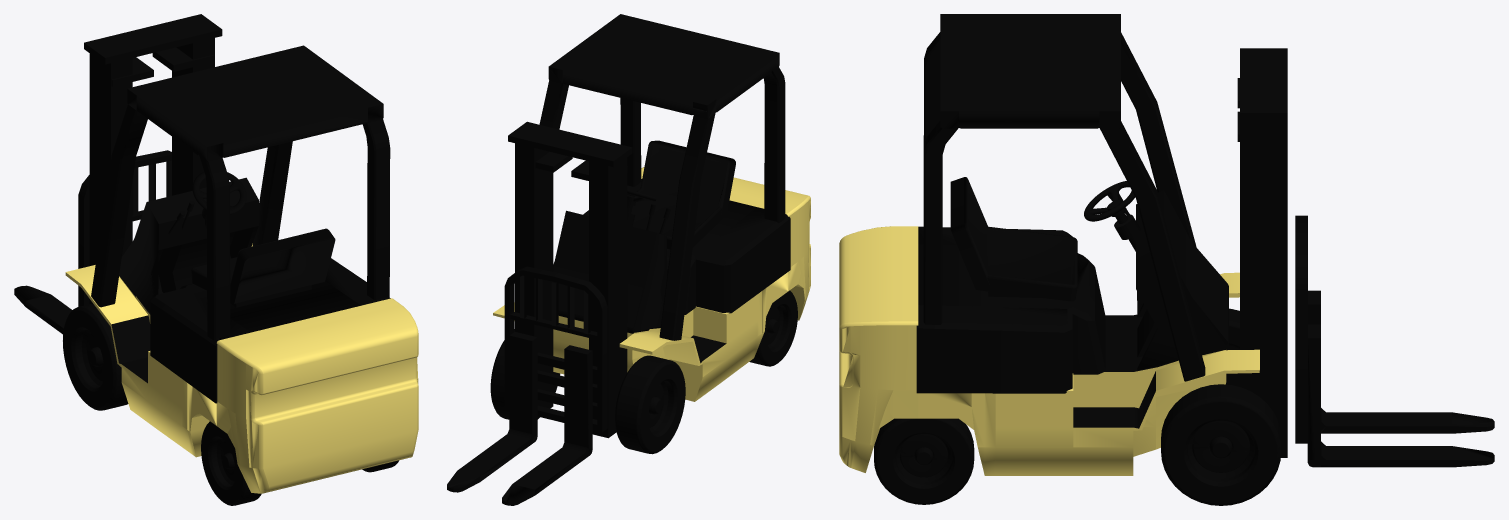
File: forklift.glb
3 renders of one model, left to right at view 1: azimuth 30°, elevation 25°; view 2: azimuth 150°, elevation 25°; view 3: azimuth 270°, elevation 25°, orthographic. The views are drawn at different scales.
Visible parts, largest first — view 1: Asset3DLoader.sceneRoot; view 2: Asset3DLoader.sceneRoot; view 3: Asset3DLoader.sceneRoot.
Boxes of the visible parts, box(x1,y1,x2,y2) form: Asset3DLoader.sceneRoot: box(14, 14, 418, 505); Asset3DLoader.sceneRoot: box(447, 14, 810, 505); Asset3DLoader.sceneRoot: box(839, 14, 1494, 505).
Bounding box in the file's own units: 274 × 514 × 765.
